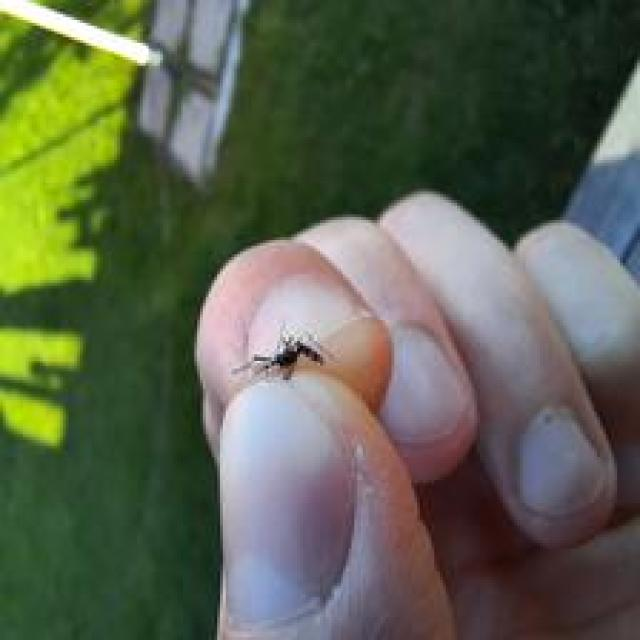Aedes albopictus: (230, 330, 327, 384)
